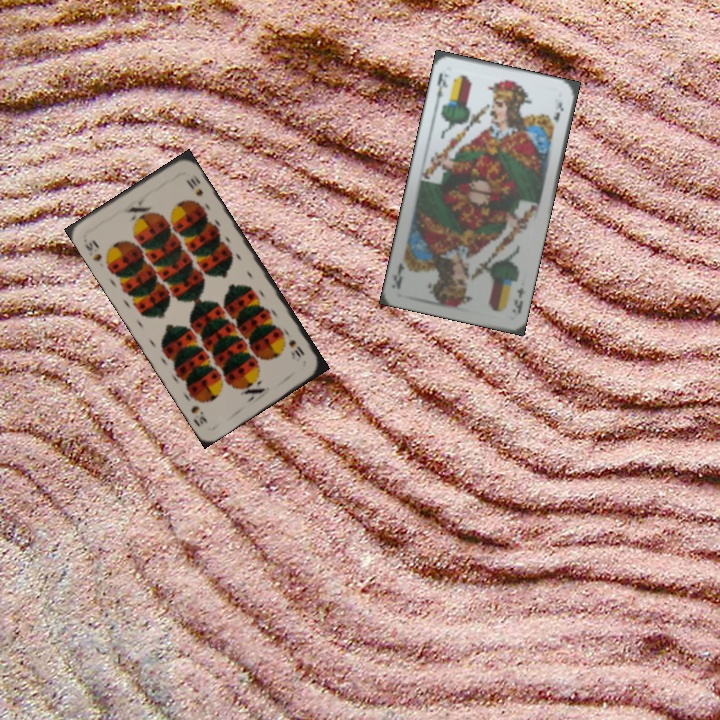EK: (431, 69, 451, 107), (508, 283, 528, 318)
S10: (81, 236, 105, 264), (285, 335, 307, 360)
